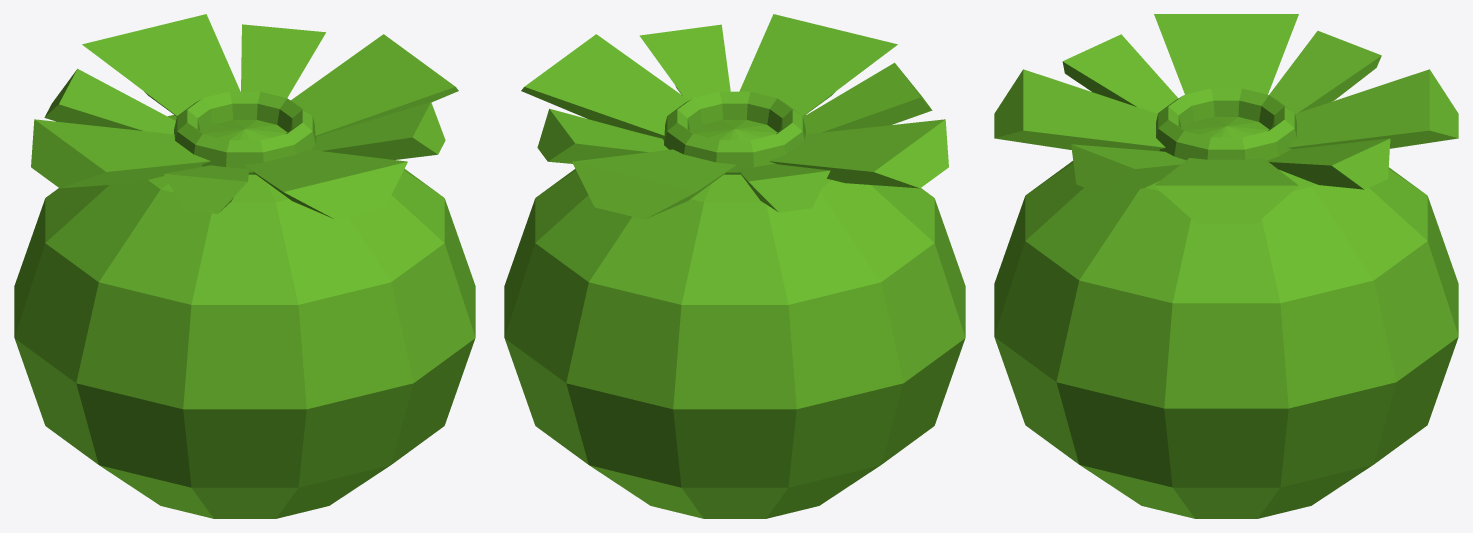
File: tomato.fbx
3 views of the same model, side by side, from view 1: azimuth 30°, elevation 25°; view 2: azimuth 150°, elevation 25°; view 3: azimuth 270°, elevation 25° (orthographic).
Visible parts, largest first — view 1: sphere, cuboid_3, cuboid, cuboid_2, torus, cuboid_1, cuboid_6, cuboid_7, cuboid_4, cuboid_5; view 2: sphere, cuboid_2, cuboid_1, cuboid, torus, cuboid_3, cuboid_5, cuboid_6, cuboid_7, cuboid_4; view 3: sphere, cuboid_1, cuboid, cuboid_3, torus, cuboid_2, cuboid_4, cuboid_5, cuboid_7, cuboid_6.
Boxes of the visible parts, bbox=[...] form: sphere: bbox=[14, 115, 475, 518]; cuboid_3: bbox=[82, 14, 240, 116]; cuboid: bbox=[31, 119, 210, 188]; cuboid_2: bbox=[291, 34, 458, 136]; torus: bbox=[174, 91, 316, 174]; cuboid_1: bbox=[244, 149, 407, 219]; cuboid_6: bbox=[311, 102, 445, 159]; cuboid_7: bbox=[241, 24, 325, 97]; cuboid_4: bbox=[44, 68, 175, 134]; cuboid_5: bbox=[164, 165, 249, 213]; sphere: bbox=[504, 115, 965, 518]; cuboid_2: bbox=[521, 34, 688, 138]; cuboid_1: bbox=[739, 14, 897, 116]; cuboid: bbox=[769, 119, 948, 188]; torus: bbox=[663, 91, 805, 174]; cuboid_3: bbox=[572, 149, 735, 219]; cuboid_5: bbox=[803, 62, 932, 134]; cuboid_6: bbox=[639, 24, 730, 100]; cuboid_7: bbox=[537, 108, 668, 163]; cuboid_4: bbox=[737, 164, 830, 212]; sphere: bbox=[994, 117, 1458, 518]; cuboid_1: bbox=[994, 69, 1165, 151]; cuboid: bbox=[1154, 14, 1298, 94]; cuboid_3: bbox=[1287, 69, 1458, 148]; torus: bbox=[1156, 88, 1296, 160]; cuboid_2: bbox=[1154, 158, 1298, 224]; cuboid_4: bbox=[1269, 31, 1381, 113]; cuboid_5: bbox=[1062, 34, 1178, 113]; cuboid_7: bbox=[1267, 138, 1390, 189]; cuboid_6: bbox=[1071, 144, 1185, 194].
Size of the model in its own units: 100 by 93.75 by 100.
Materials: 2 (2 with a texture image).
